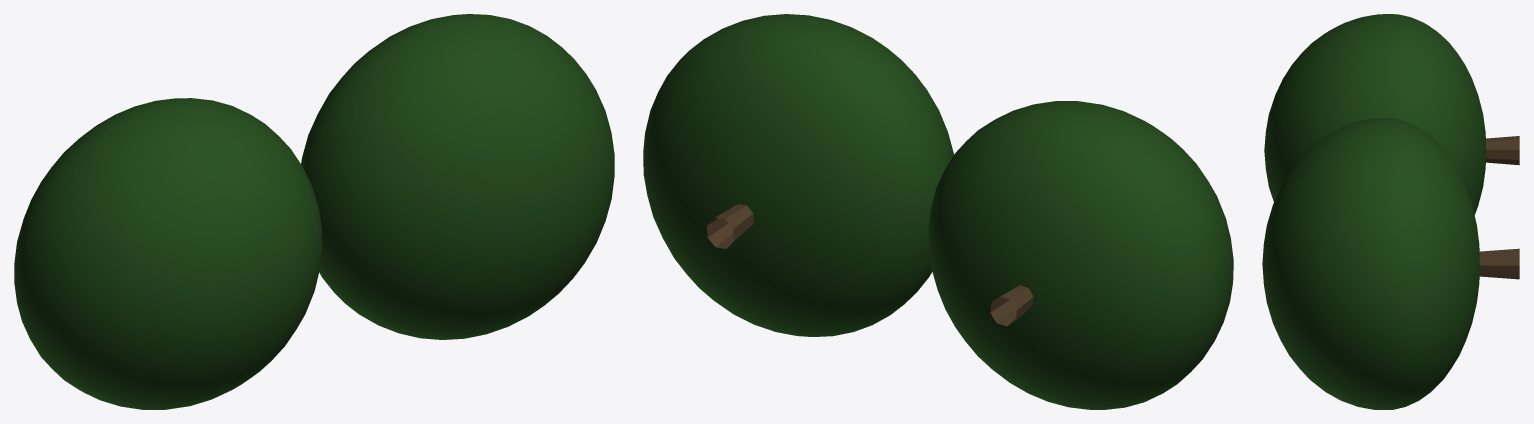
The model's file is citrus_plain2_d.obj.
The picture shows the model from 3 angles, left to right: view 1: azimuth 30°, elevation 25°; view 2: azimuth 150°, elevation 25°; view 3: azimuth 270°, elevation 25°; orthographic projection. The views are drawn at different scales.
Visible parts, largest first — view 1: canopy; view 2: canopy, trunk; view 3: canopy, trunk.
Boxes of the visible parts, x1,y1,x2,y2 form: canopy: (14,14,614,409); canopy: (643,14,1233,409); trunk: (707,204,1033,326); canopy: (1262,14,1486,409); trunk: (1479,136,1519,279).
Size of the model in its own units: 6 by 3.06 by 2.69.
